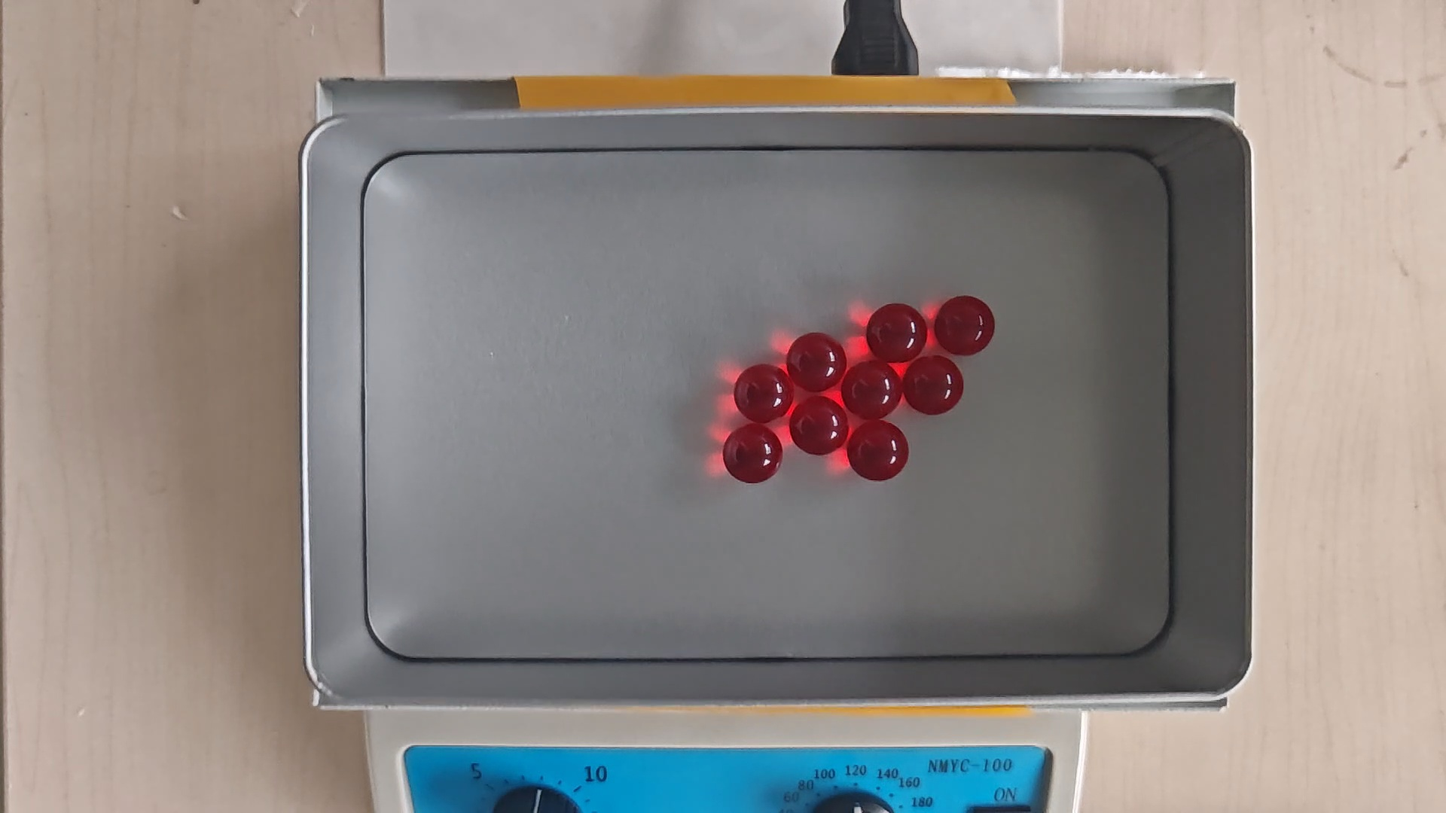ball: (848, 420, 909, 483), (935, 295, 995, 357), (903, 356, 964, 416), (723, 424, 783, 485), (787, 332, 846, 392), (867, 303, 926, 362), (734, 363, 792, 423), (843, 361, 902, 419), (791, 397, 848, 456)
container: (361, 148, 1173, 658)
